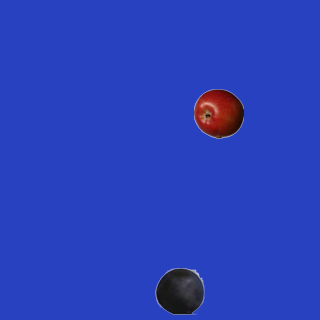Apple Braeburn: (193, 88, 243, 138)
Grape Blue: (154, 265, 204, 315)
